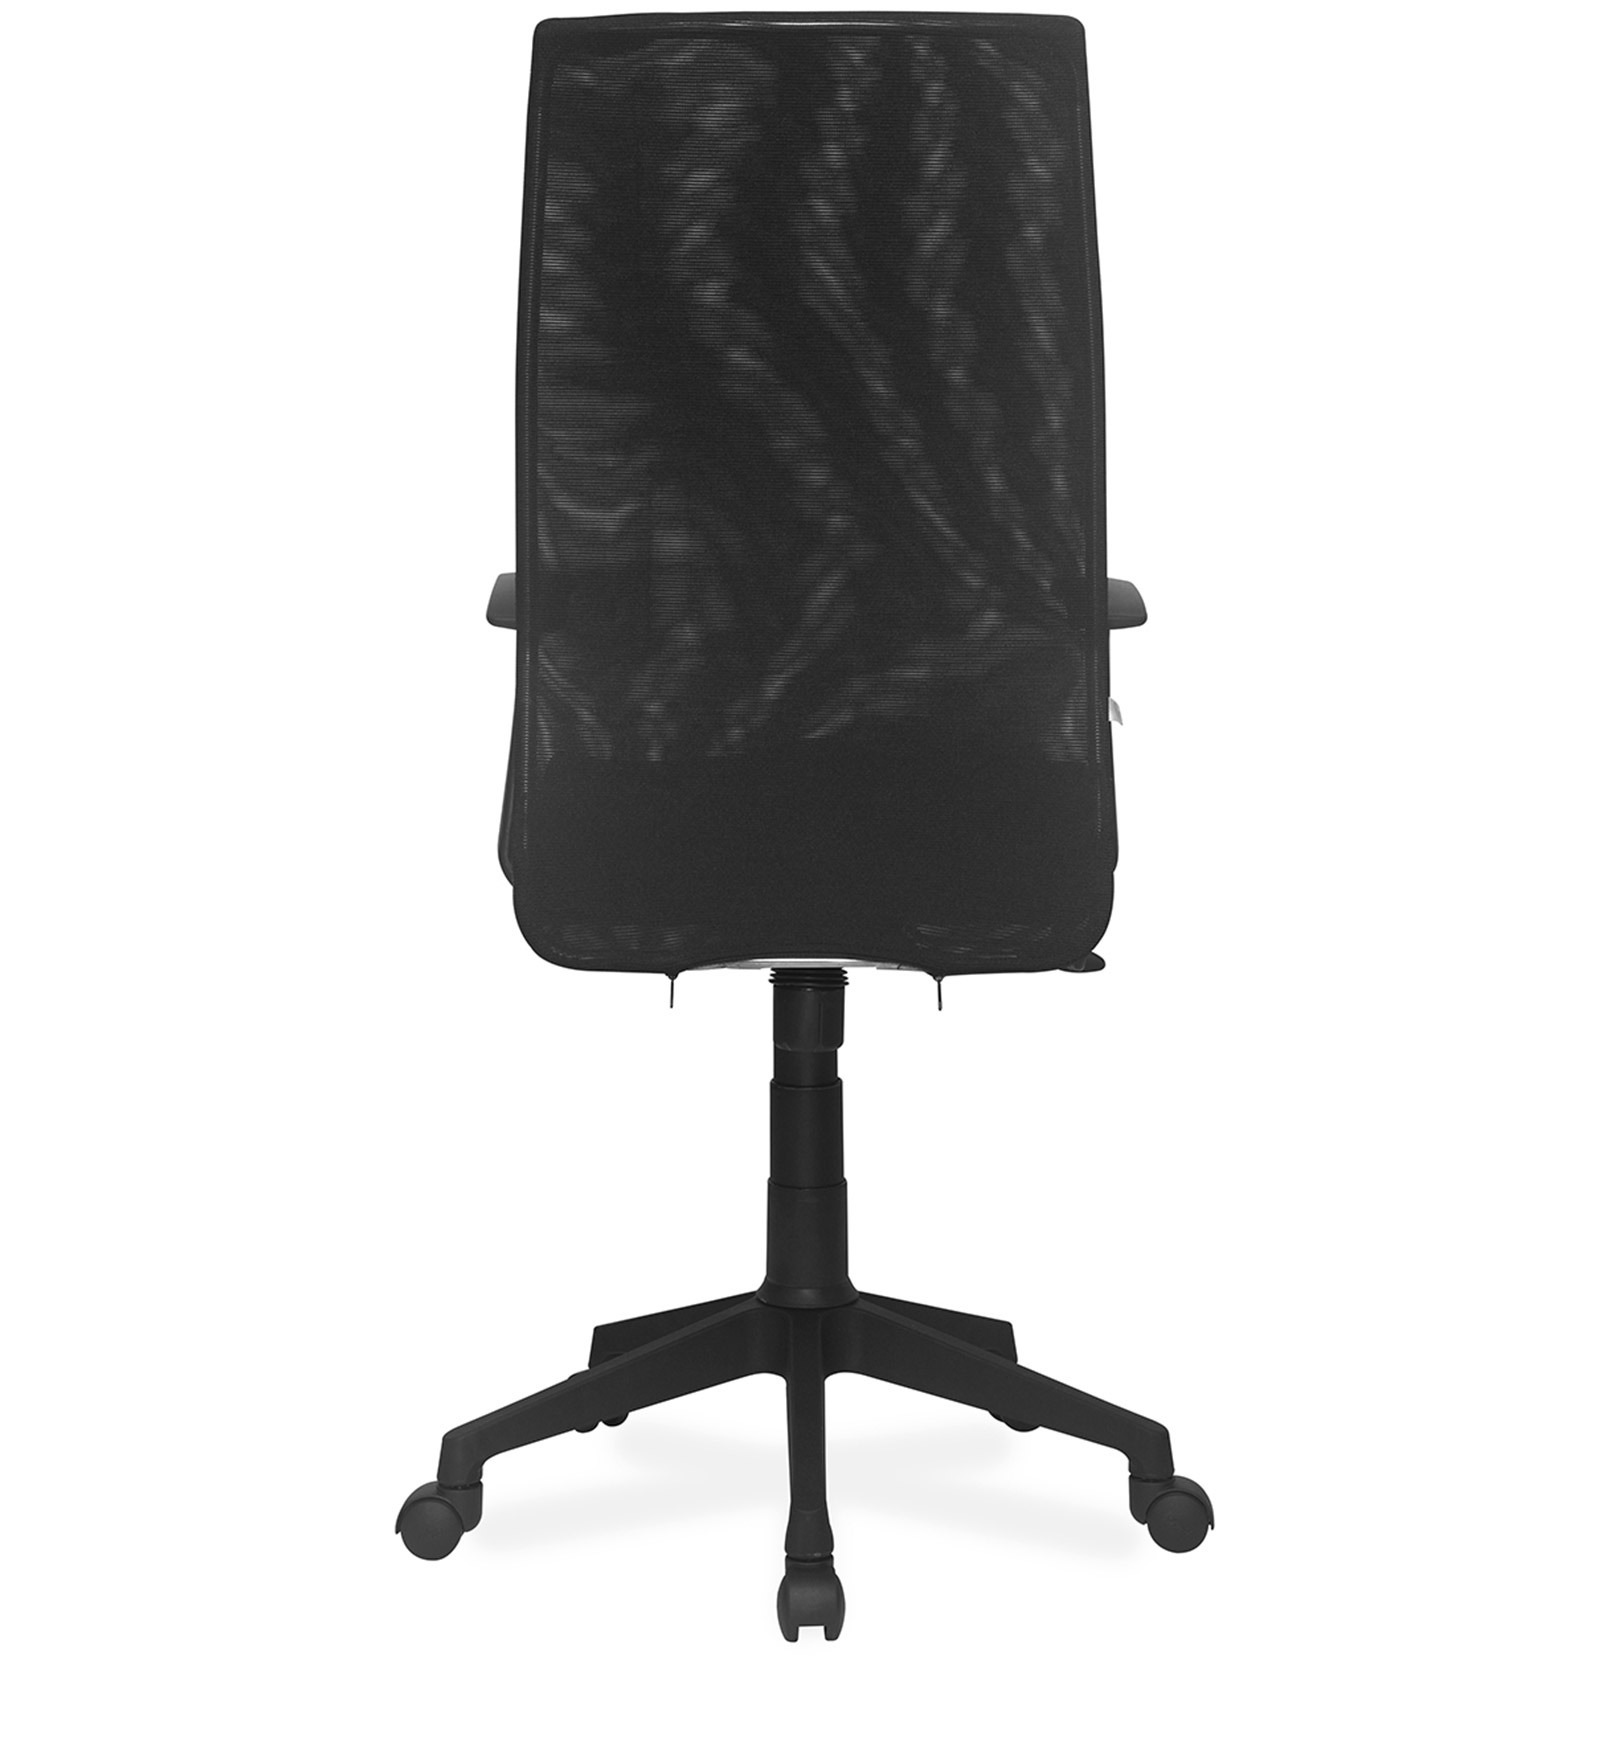Teak Wood Rocking Chair in Walnut Finish by Furniease: (366, 23, 1292, 1693)
